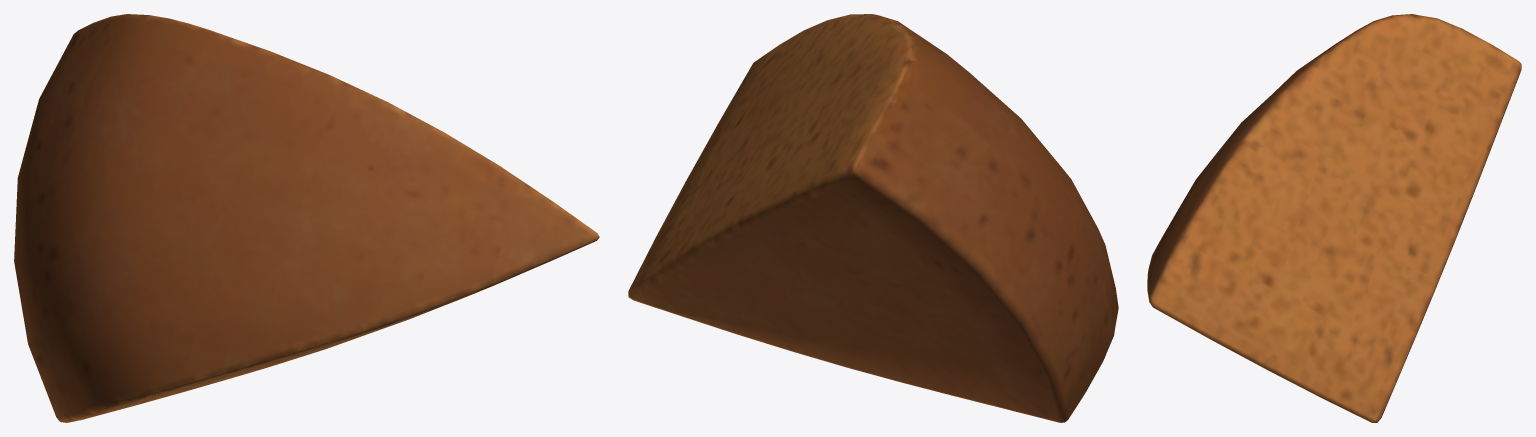
The model's file is BFFaGao.obj.
3 renders of one model, left to right at view 1: azimuth 30°, elevation 25°; view 2: azimuth 150°, elevation 25°; view 3: azimuth 270°, elevation 25°, orthographic. The views are drawn at different scales.
Parts seen in each view (by area): view 1: HTfaGao; view 2: HTfaGao; view 3: HTfaGao.
Boxes of the visible parts, box(x1,y1,x2,y2) form: HTfaGao: box(14, 14, 599, 422); HTfaGao: box(628, 14, 1118, 422); HTfaGao: box(1147, 14, 1521, 422).
Bounding box in the file's own units: 1.9 × 1.47 × 1.61.
